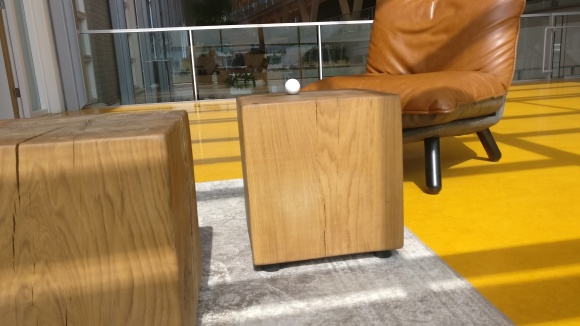egg: (284, 78, 301, 95)
